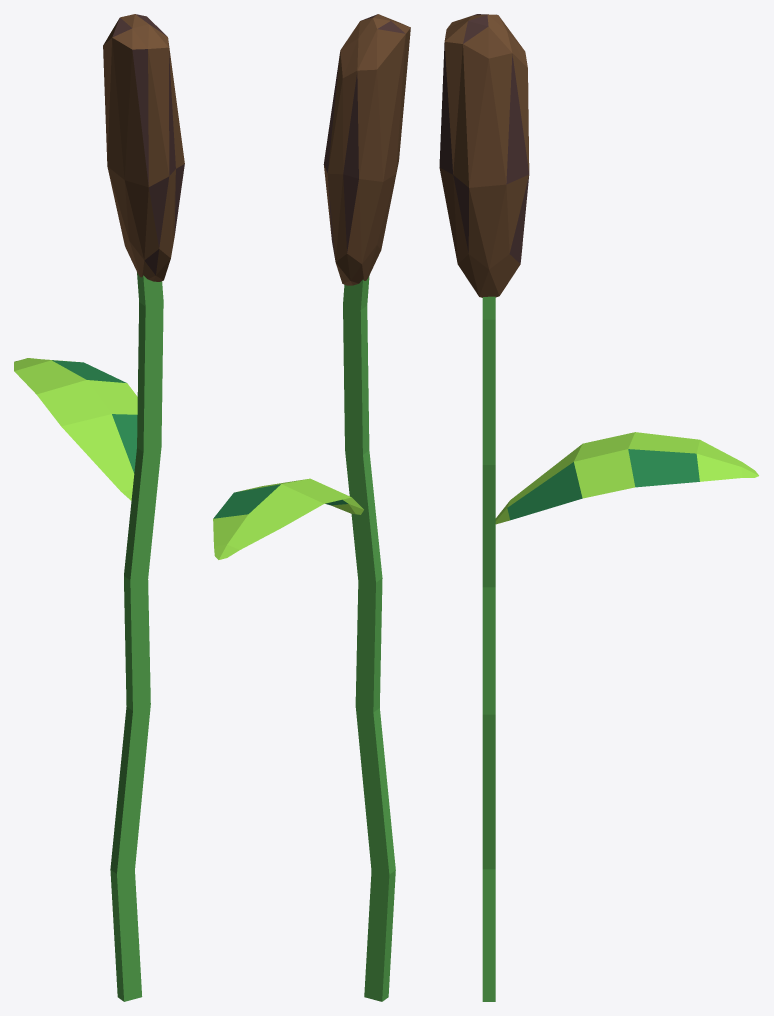
File: SORGO INICIO.fbx
3 views of the same model, side by side, from view 1: azimuth 30°, elevation 25°; view 2: azimuth 150°, elevation 25°; view 3: azimuth 270°, elevation 25° (orthographic).
Parts seen in each view (by area): view 1: Cube, Icosphere, Plane.001; view 2: Cube, Icosphere, Plane.001; view 3: Icosphere, Plane.001, Cube.
Part boxes in pixels (x1,y1,x2,y2): Cube: (110, 272, 163, 1001); Icosphere: (103, 14, 184, 281); Plane.001: (14, 358, 137, 500); Cube: (343, 275, 395, 1001); Icosphere: (323, 14, 410, 285); Plane.001: (213, 478, 363, 559); Icosphere: (439, 14, 529, 297); Plane.001: (495, 432, 758, 524); Cube: (482, 296, 495, 1001).
Bounding box in the file's own units: 43.49 × 434 × 128.
